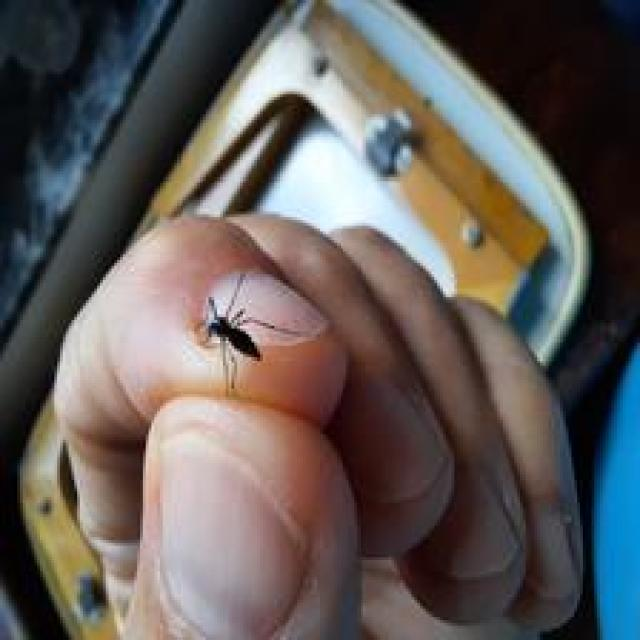Aedes albopictus: (196, 270, 324, 396)
